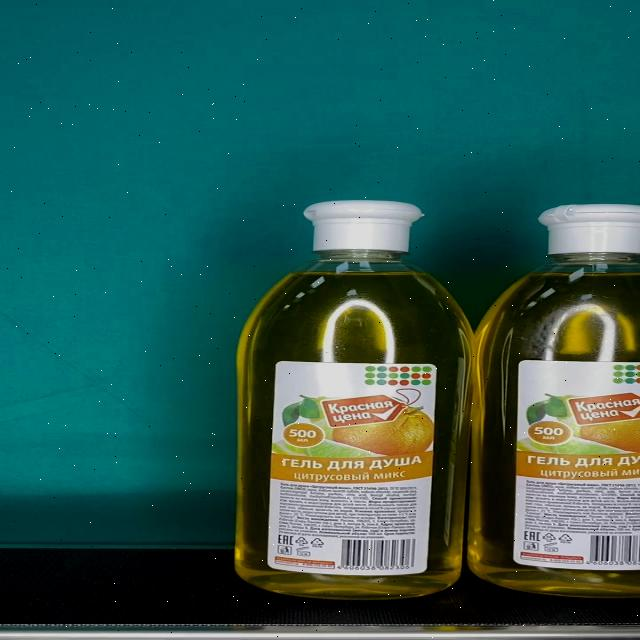Bottle: (233, 201, 477, 601)
Cap: (303, 200, 424, 252)
